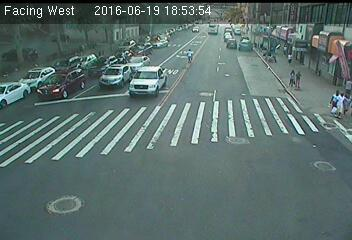neg: (181, 43, 198, 66)
pos: (333, 92, 351, 116), (294, 68, 306, 85), (286, 66, 298, 83), (330, 87, 342, 102), (284, 51, 295, 65)
